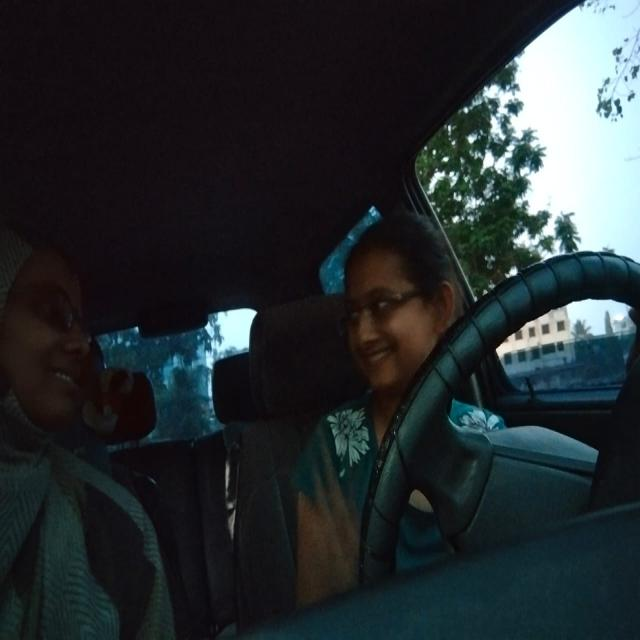LeftRight: (335, 208, 463, 405)
person: (1, 210, 104, 465)
talking: (46, 360, 85, 400), (359, 342, 401, 376)
